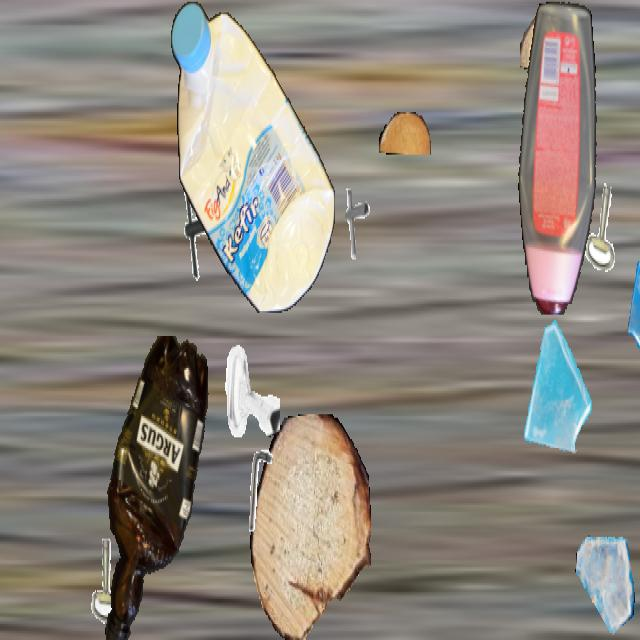glass: (513, 318, 593, 461), (575, 532, 635, 638), (625, 249, 640, 366)
metal: (173, 176, 233, 283), (222, 340, 280, 442), (81, 532, 137, 631), (577, 178, 633, 277), (235, 442, 289, 538), (333, 183, 377, 261)
plastic: (171, 2, 335, 311), (95, 336, 215, 638), (517, 2, 601, 314)
wood: (250, 414, 370, 638), (520, 16, 594, 73), (379, 112, 431, 155)
